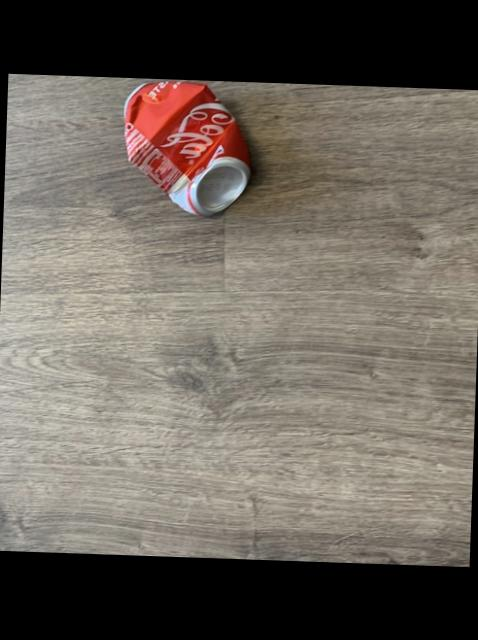metal: (127, 82, 252, 216)
